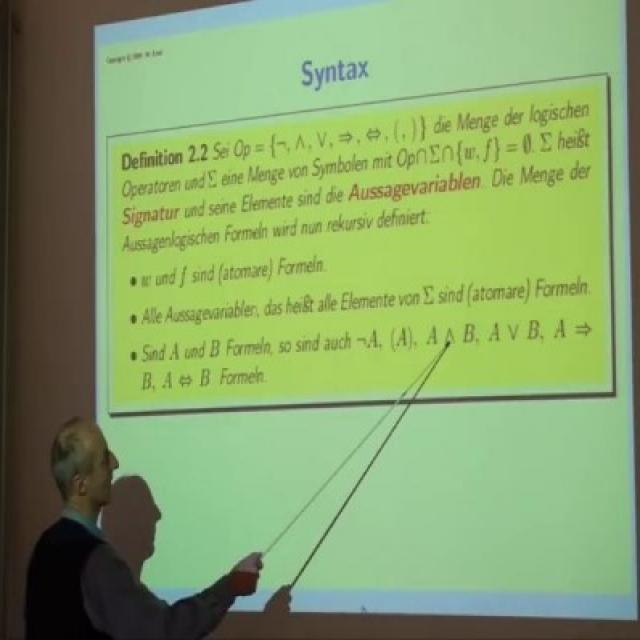Instructor: (31, 415, 165, 640)
Slide: (91, 0, 640, 601)
